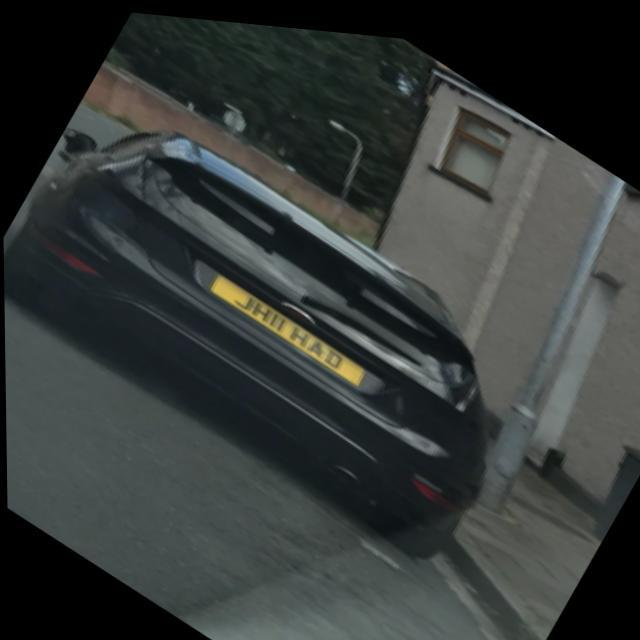license_plate: (206, 266, 365, 378)
